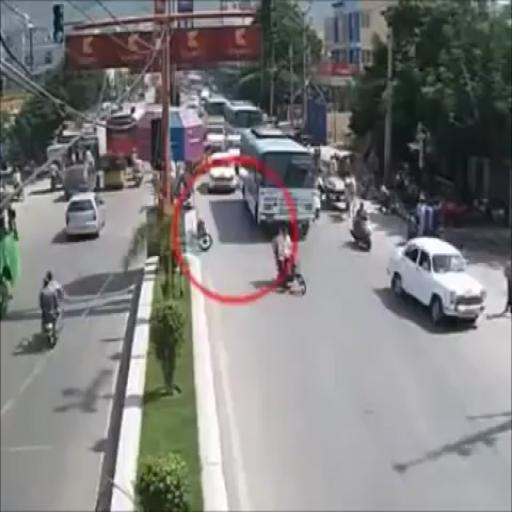小汽车: (386, 235, 488, 328), (243, 134, 314, 230), (62, 194, 103, 235), (210, 152, 237, 194)
自行车: (269, 227, 307, 295), (36, 270, 66, 345), (349, 200, 375, 254)
